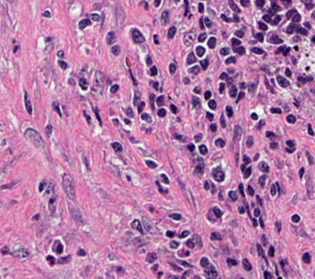nucleus: (24, 128, 44, 149), (63, 175, 74, 200), (68, 203, 82, 221), (143, 218, 157, 233), (184, 28, 195, 46), (212, 167, 224, 181), (131, 219, 143, 233), (256, 244, 266, 260), (132, 29, 144, 42), (205, 264, 217, 277), (155, 181, 167, 193), (52, 101, 61, 116), (106, 31, 115, 44), (265, 79, 274, 92), (53, 240, 62, 253), (234, 125, 241, 141), (277, 76, 288, 86), (242, 258, 251, 270), (94, 109, 101, 124), (269, 35, 282, 43), (95, 72, 103, 85), (258, 162, 268, 172), (146, 252, 156, 262), (192, 235, 201, 246), (49, 196, 55, 212), (92, 85, 101, 95), (141, 113, 151, 122), (213, 207, 222, 217), (46, 255, 55, 265), (187, 53, 195, 64), (79, 78, 87, 89), (236, 91, 244, 102), (145, 160, 156, 168), (133, 91, 139, 105), (258, 175, 265, 187), (57, 256, 69, 263), (177, 260, 191, 266), (58, 60, 67, 69), (286, 114, 295, 123), (112, 142, 121, 151), (112, 45, 120, 55), (196, 46, 204, 56), (200, 59, 208, 69), (194, 165, 202, 175), (200, 257, 208, 267), (130, 71, 136, 84), (208, 37, 215, 48), (233, 47, 244, 54), (188, 66, 199, 73), (229, 86, 236, 97), (306, 152, 313, 163), (244, 167, 251, 178), (38, 180, 45, 191), (210, 232, 221, 239), (149, 94, 154, 109), (220, 47, 229, 55), (125, 107, 133, 116), (215, 139, 224, 147), (199, 145, 207, 154), (160, 174, 168, 183), (228, 191, 236, 200), (169, 213, 181, 219), (227, 258, 236, 266), (169, 63, 176, 73), (192, 97, 199, 107), (252, 47, 263, 53), (84, 112, 90, 123), (246, 136, 252, 147), (270, 184, 276, 195), (220, 114, 225, 127), (198, 33, 206, 41), (255, 33, 263, 41), (110, 84, 118, 92), (157, 108, 165, 116), (194, 133, 202, 141), (291, 214, 299, 222), (186, 239, 194, 247), (231, 38, 240, 45), (208, 100, 215, 109), (257, 120, 264, 129), (179, 230, 188, 237), (303, 253, 310, 262), (225, 57, 235, 63), (138, 102, 144, 112), (226, 106, 232, 116), (247, 185, 253, 195), (268, 246, 274, 256), (248, 84, 255, 92), (266, 131, 274, 138), (170, 241, 178, 248), (270, 108, 281, 113), (150, 66, 156, 75), (157, 96, 163, 105), (171, 264, 180, 270), (46, 125, 51, 135), (308, 125, 313, 135), (275, 221, 280, 231), (243, 156, 250, 163), (235, 30, 243, 36), (276, 46, 284, 52), (204, 91, 210, 99), (170, 105, 176, 113), (286, 140, 294, 146), (239, 184, 243, 196), (166, 231, 174, 237), (77, 249, 85, 255), (264, 272, 272, 278), (146, 56, 151, 65), (219, 83, 224, 92), (175, 135, 184, 140), (299, 168, 304, 177), (57, 50, 63, 57), (206, 113, 212, 120), (210, 124, 216, 131), (270, 142, 277, 148), (188, 144, 194, 151), (253, 153, 259, 160), (238, 206, 244, 213), (182, 271, 189, 277), (285, 68, 290, 76), (286, 147, 294, 152), (204, 181, 209, 189), (210, 183, 214, 193), (257, 196, 262, 204), (254, 208, 259, 216), (262, 235, 266, 245), (220, 72, 226, 78), (251, 113, 257, 119), (259, 218, 263, 227), (284, 48, 289, 55), (299, 77, 306, 82), (154, 35, 158, 43), (180, 251, 188, 255), (183, 78, 189, 83), (194, 87, 200, 92), (124, 119, 130, 124), (33, 214, 39, 219), (292, 37, 299, 41), (153, 82, 157, 89), (241, 164, 244, 171), (253, 219, 256, 226), (240, 83, 244, 88), (113, 119, 117, 124), (235, 153, 237, 163), (152, 265, 157, 269), (311, 36, 314, 42), (158, 272, 162, 276)
